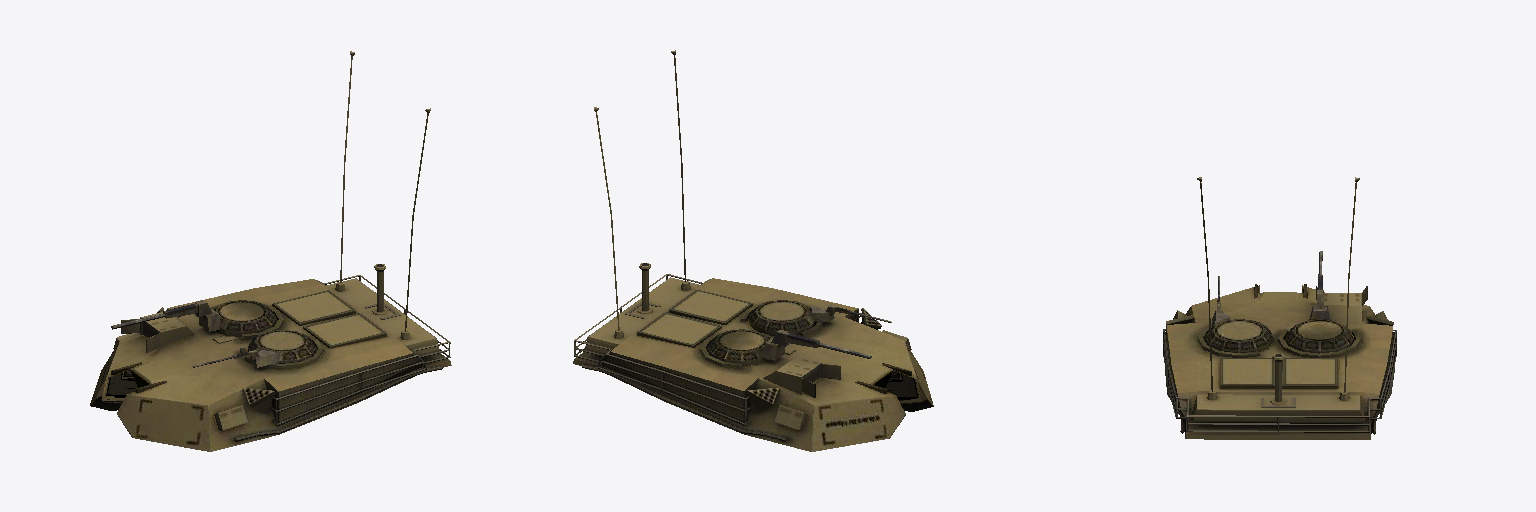
3 views of the same model, side by side, from view 1: azimuth 30°, elevation 25°; view 2: azimuth 150°, elevation 25°; view 3: azimuth 270°, elevation 25° (orthographic).
Parts seen in each view (by area): view 1: up; view 2: up; view 3: up.
Part boxes in pixels (left/top/right/bottom): up: left=90, top=51, right=451, bottom=451; up: left=573, top=50, right=933, bottom=451; up: left=1163, top=177, right=1396, bottom=439.
Size of the model in its own units: 10.42 by 9.54 by 7.05.
2 materials, 1 textured.